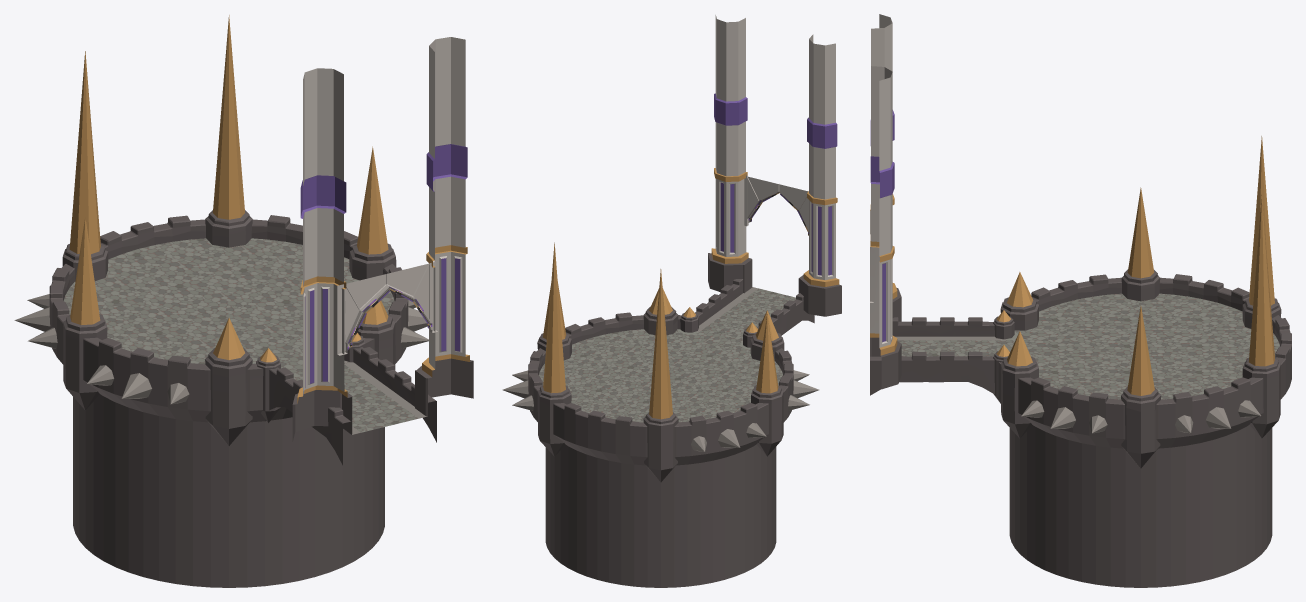
File: harazuelDioPortal.fbx
The picture shows the model from 3 angles, left to right: view 1: azimuth 30°, elevation 25°; view 2: azimuth 150°, elevation 25°; view 3: azimuth 270°, elevation 25°; orthographic projection. The views are drawn at different scales.
Parts seen in each view (by area): view 1: harazuelPortalDioMain1, harazuelPortalDioBridge, harazuelPortalDioMain2; view 2: harazuelPortalDioMain2, harazuelPortalDioBridge, harazuelPortalDioMain1; view 3: harazuelPortalDioMain2, harazuelPortalDioMain1, harazuelPortalDioBridge.
Boxes of the visible parts, bbox=[...] form: harazuelPortalDioMain1: bbox=[83, 264, 428, 587]; harazuelPortalDioBridge: bbox=[269, 37, 473, 465]; harazuelPortalDioMain2: bbox=[14, 15, 396, 554]; harazuelPortalDioMain2: bbox=[502, 242, 783, 587]; harazuelPortalDioBridge: bbox=[695, 15, 841, 338]; harazuelPortalDioMain1: bbox=[565, 288, 819, 563]; harazuelPortalDioMain2: bbox=[1121, 136, 1291, 587]; harazuelPortalDioMain1: bbox=[993, 272, 1140, 587]; harazuelPortalDioBridge: bbox=[870, 14, 996, 395].
Bounding box in the file's own units: 21.05 × 33.59 × 26.48.
